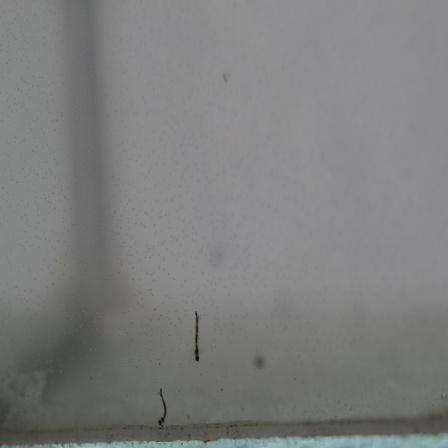Jentik-Nyamuk: (186, 308, 207, 363), (154, 383, 172, 427)
